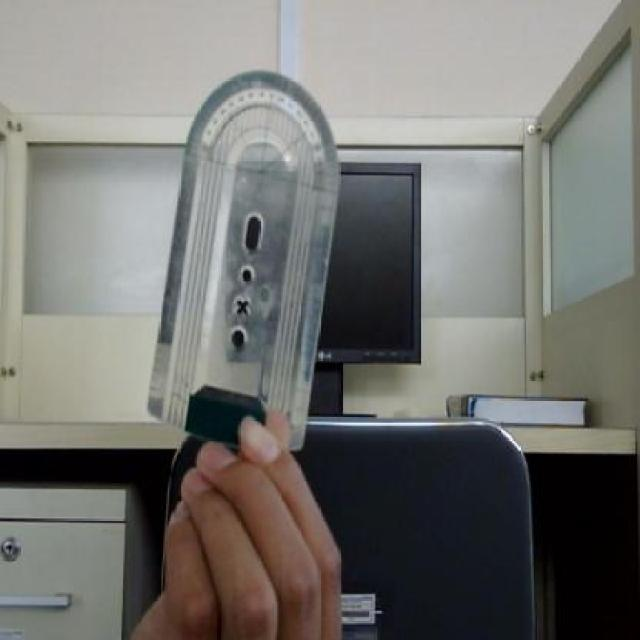Plastic: (149, 66, 341, 421)
